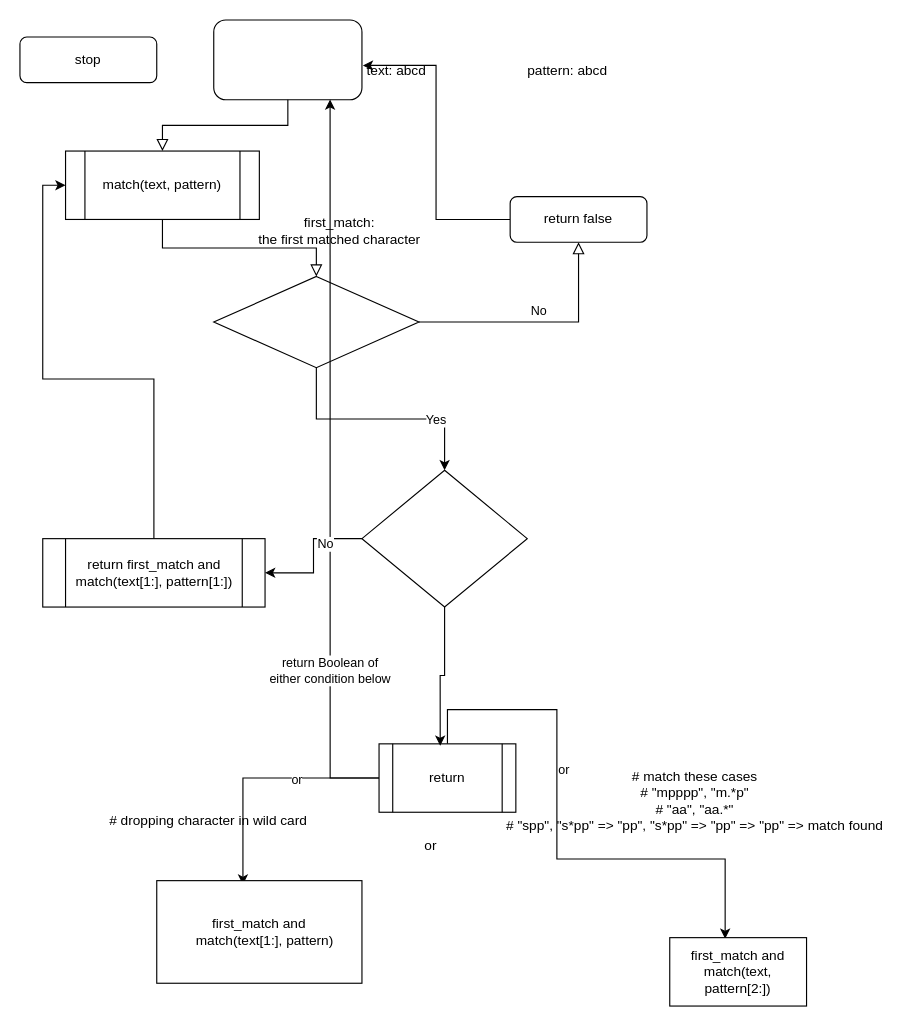
The diagram is 912 pixels wide and 1026 high, and some of its shapes have lost their labels. The shapes that lost their labels are listed below. From the top down, each one's centre as x and y in pixels, then its label:
At point 287,59: "start: n = test.length for 0 in range(n):".
At point 316,321: "first_match = text[0] == pattern[0]".
At point 444,538: "is next char * ?".
